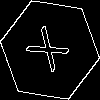X: (25, 25, 79, 80)
